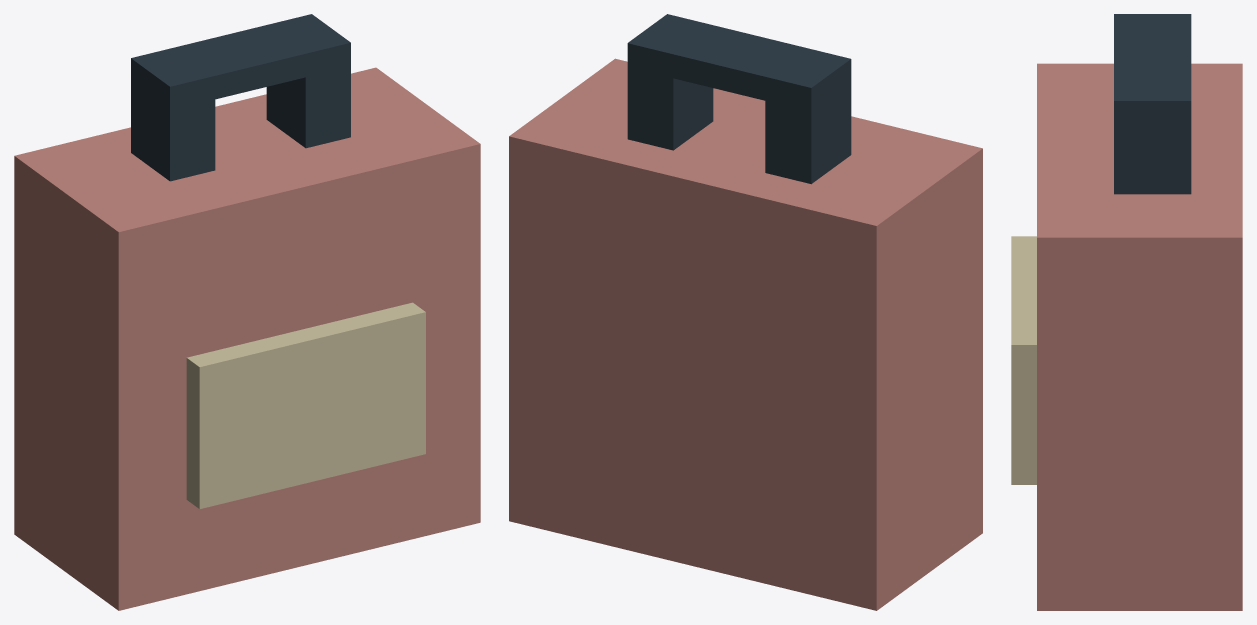
The model's file is commerce-15.glb.
3 views of the same model, side by side, from view 1: azimuth 30°, elevation 25°; view 2: azimuth 150°, elevation 25°; view 3: azimuth 270°, elevation 25° (orthographic). The views are drawn at different scales.
Visible parts, largest first — view 1: Shopping bag; view 2: Shopping bag; view 3: Shopping bag.
Boxes of the visible parts, <box> form: Shopping bag: <box>14,14,480,610</box>; Shopping bag: <box>509,14,982,610</box>; Shopping bag: <box>1011,14,1242,610</box>.
Bounding box in the file's own units: 1.28 × 1.6 × 0.72.
